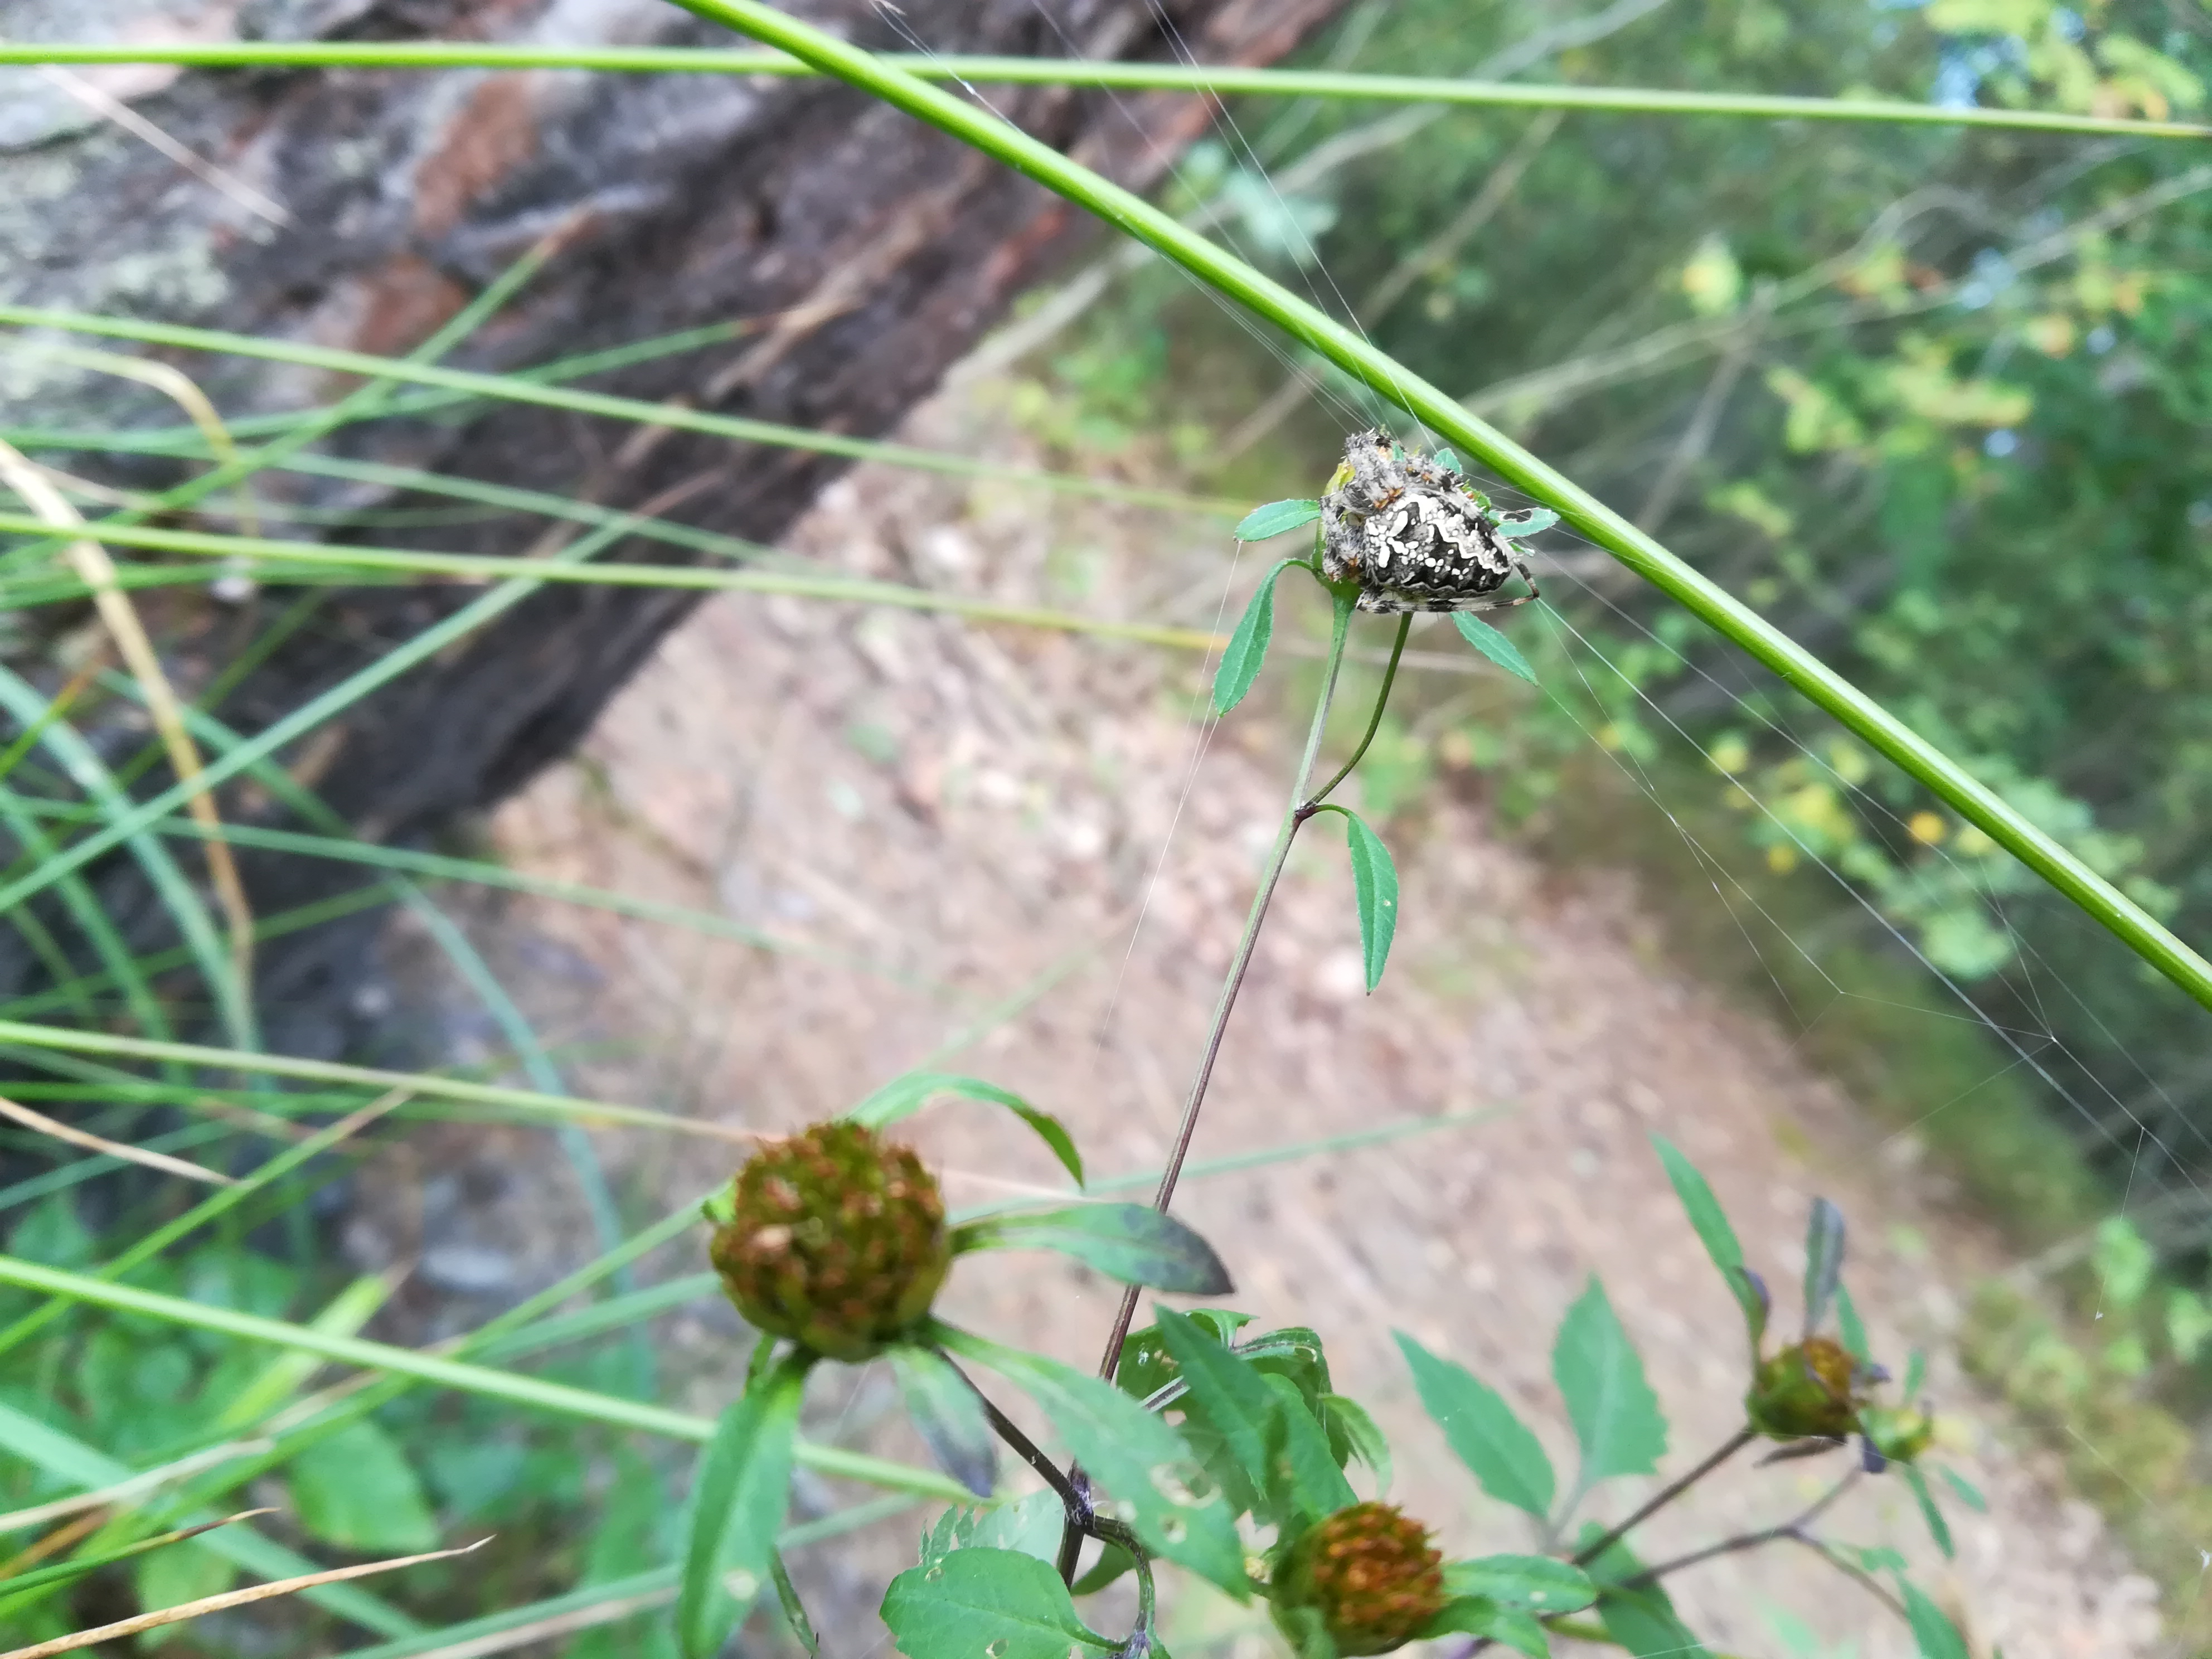spider: (1270, 392, 1573, 662)
